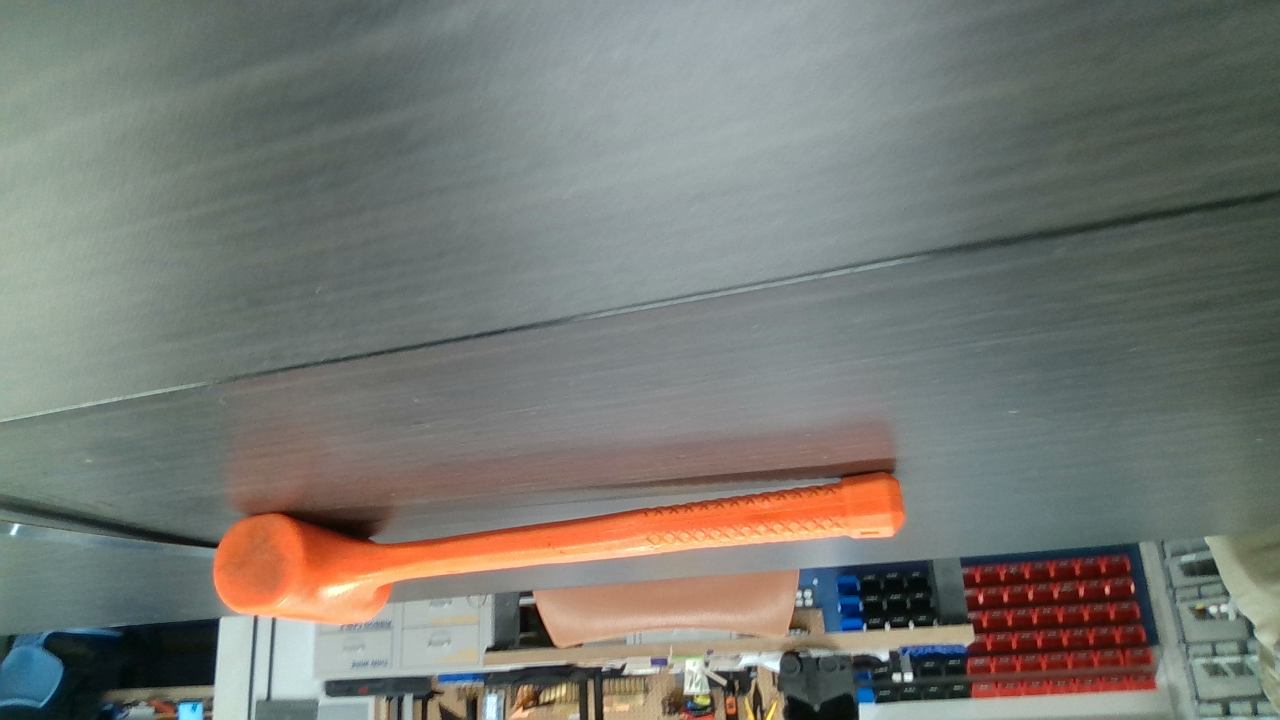Orange Hammer: (220, 466, 903, 623)
